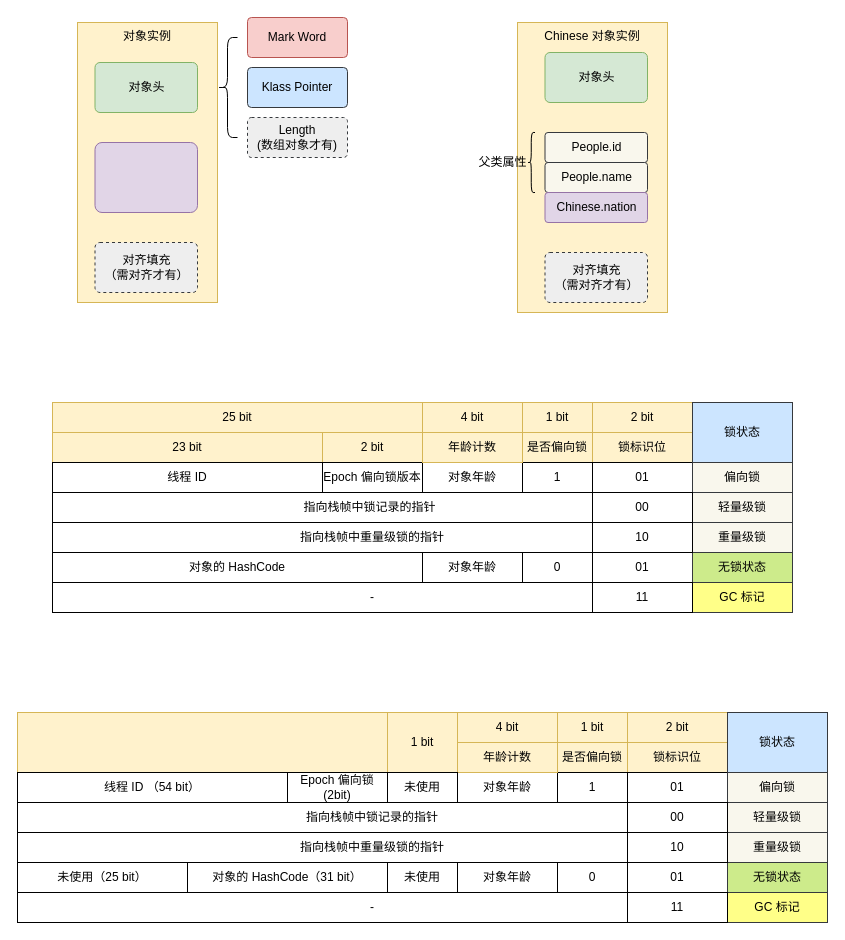
This 845x940 diagram has some shape labels left out. The shapes that lost their labels are listed below. From the top down, each one's centre as x and y in pixels, then its label:
point (146, 177): 实例数据
point (202, 742): 56 bit
